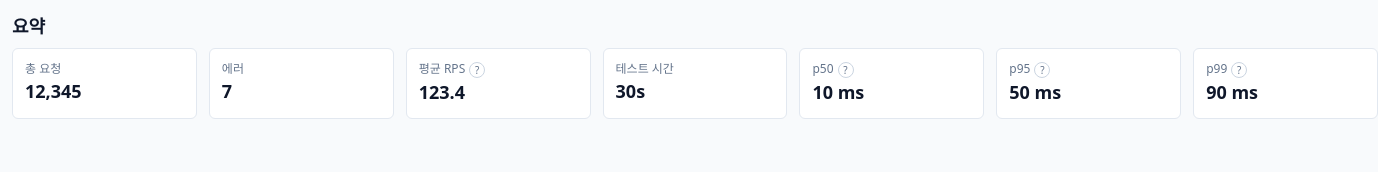
Test: Summary › 평균 RPS 카드에 RPS 용어 도움말이 있다
Click the button named "평균 RPS 설명" at (477, 70), box [469,62,485,78]
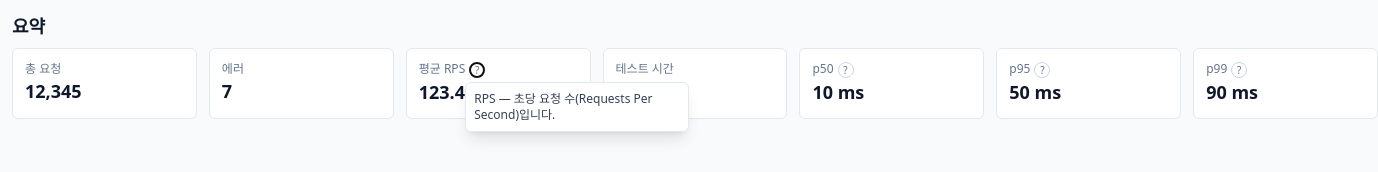
Now the text "RPS — 초당 요청 수(Requests Per Second)입니다." is shown, box [465,82,689,132]
